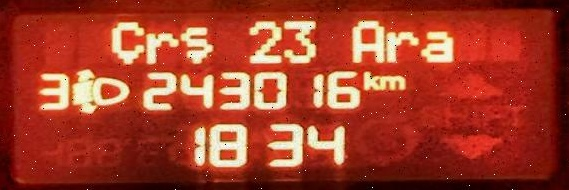0: (250, 70, 290, 110)
1: (190, 120, 206, 167), (310, 67, 323, 114)
2: (141, 70, 176, 113), (248, 20, 281, 64)
3: (264, 119, 303, 168), (281, 17, 320, 64), (218, 68, 251, 111), (38, 71, 68, 110)
4: (304, 119, 347, 166), (178, 70, 215, 108)
6: (325, 67, 359, 110)
8: (208, 120, 248, 169)
X: (348, 17, 385, 62), (109, 20, 141, 64), (180, 25, 214, 62), (422, 29, 456, 64), (385, 29, 418, 62), (146, 30, 177, 65), (379, 73, 407, 90), (363, 70, 379, 91)
